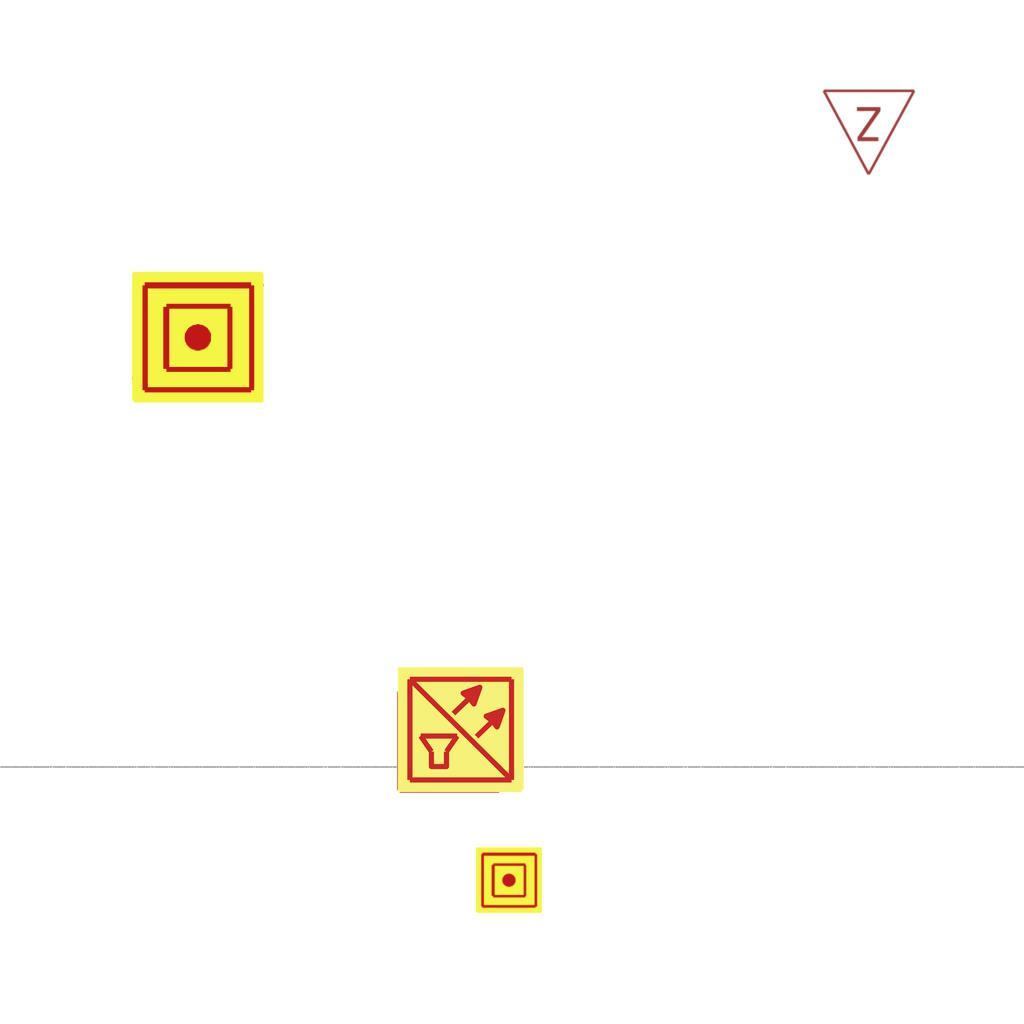NAM-Nichtautomatischer_Melder: (132, 271, 264, 403), (476, 847, 542, 913)
OKW_Multisensormelder_(Kombination_optischer_Rauch-Kahlenmonoxid_Waerme-Melder): (395, 664, 527, 796)
Zimmersignalleuchte: (821, 82, 919, 182)
